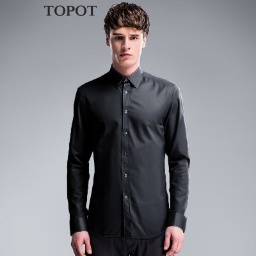face: (104, 2, 151, 70)
